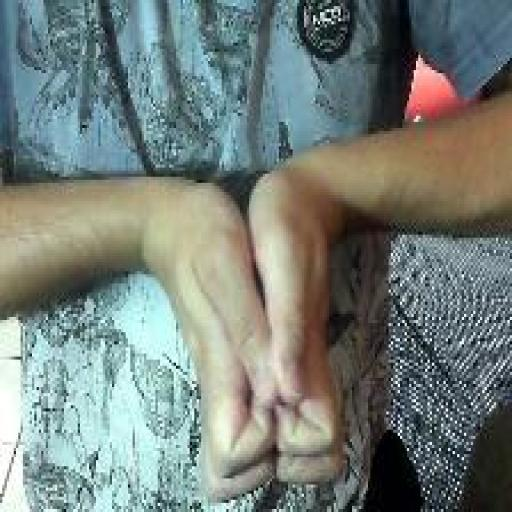I -boar-: (167, 166, 347, 504)
